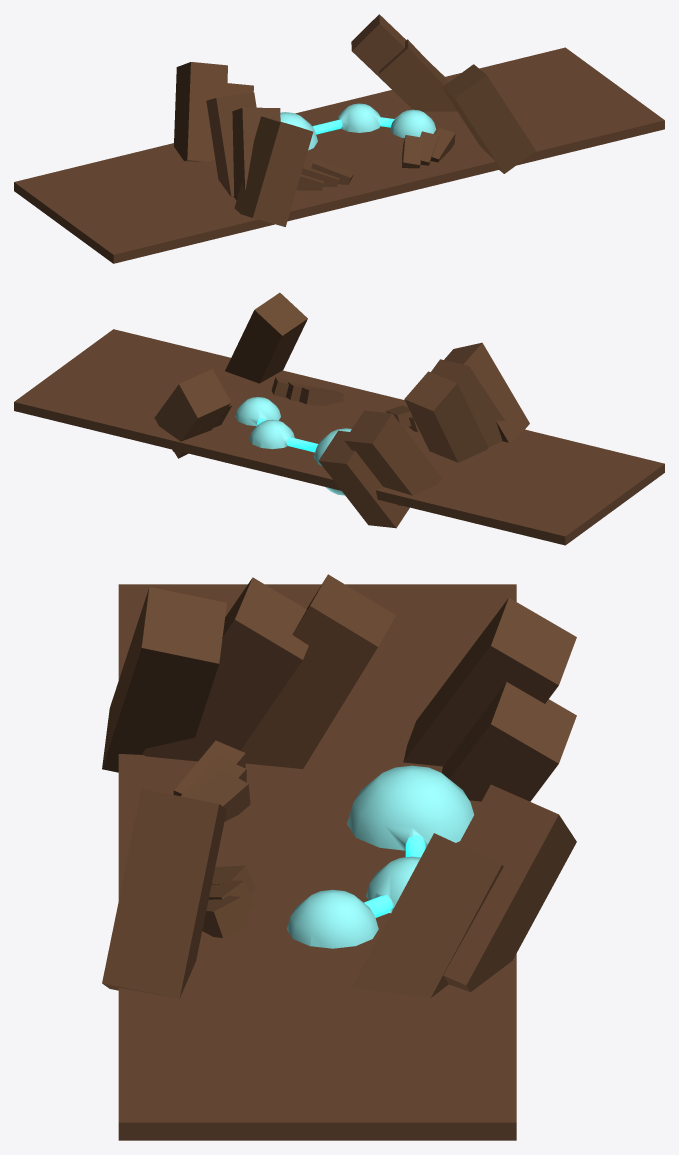
Rendered from back_bg.glb.
3 views of the same model, one above another, from view 1: azimuth 30°, elevation 25°; view 2: azimuth 150°, elevation 25°; view 3: azimuth 270°, elevation 25° (orthographic). The views are drawn at different scales.
Visible parts, largest first — view 1: Background2; view 2: Background2; view 3: Background2.
Boxes of the visible parts, left/top/right/bottom form: Background2: left=14, top=14, right=664, bottom=263; Background2: left=14, top=292, right=664, bottom=545; Background2: left=102, top=574, right=576, bottom=1140.
Bounding box in the file's own units: 64 × 14.76 × 23.87.
